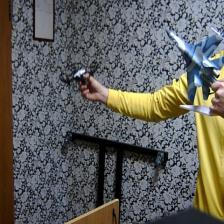drone: (56, 51, 104, 92)
